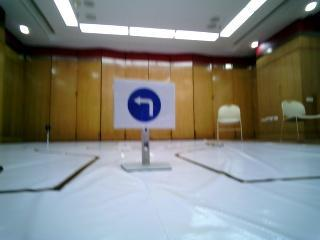left: (119, 82, 172, 125)
